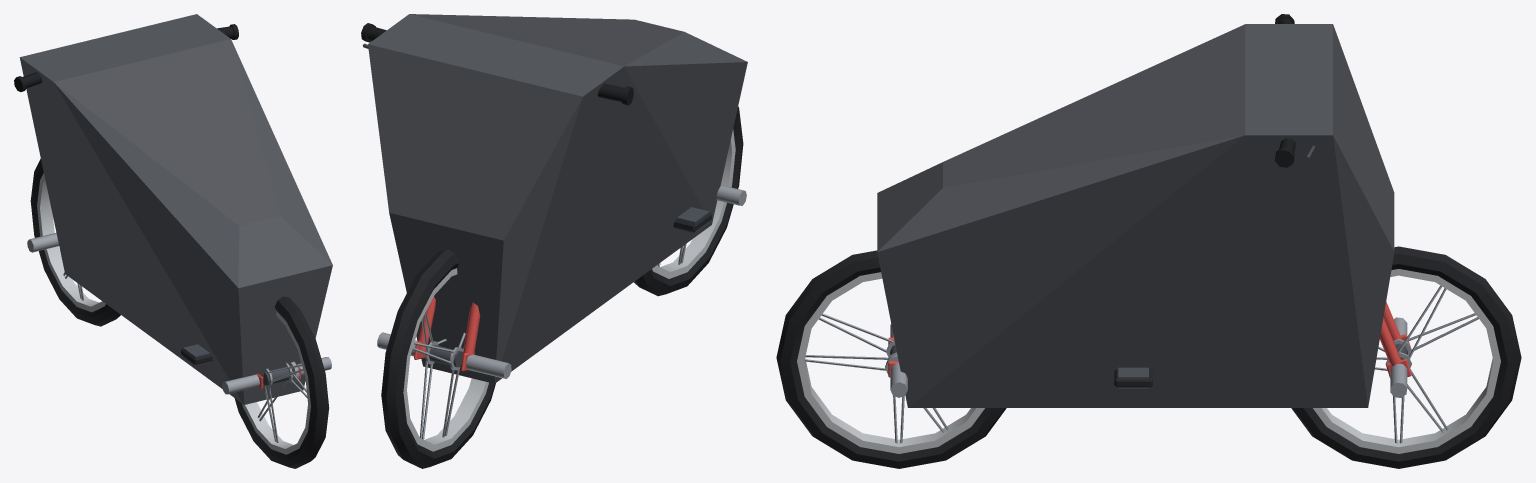
The model's file is bicycle.glb.
The picture shows the model from 3 angles, left to right: view 1: azimuth 30°, elevation 25°; view 2: azimuth 150°, elevation 25°; view 3: azimuth 270°, elevation 25°; orthographic projection. The views are drawn at different scales.
Parts seen in each view (by area): view 1: bicycle__col_body, bicycle__wheel_r, bicycle__wheel_f, bicycle__fork, bicycle__body, bicycle__crank; view 2: bicycle__col_body, bicycle__wheel_f, bicycle__wheel_r, bicycle__fork, bicycle__crank, bicycle__body; view 3: bicycle__col_body, bicycle__wheel_f, bicycle__wheel_r, bicycle__fork, bicycle__crank.
Part boxes in pixels (x1=…): bicycle__col_body: x1=19, y1=14, x2=332, y2=404; bicycle__wheel_r: x1=234, y1=296, x2=329, y2=468; bicycle__wheel_f: x1=30, y1=158, x2=120, y2=326; bicycle__fork: x1=14, y1=24, x2=238, y2=252; bicycle__body: x1=222, y1=357, x2=331, y2=394; bicycle__crank: x1=181, y1=344, x2=212, y2=365; bicycle__col_body: x1=368, y1=14, x2=747, y2=383; bicycle__wheel_f: x1=381, y1=249, x2=495, y2=468; bicycle__wheel_r: x1=634, y1=106, x2=743, y2=296; bicycle__fork: x1=361, y1=23, x2=633, y2=378; bicycle__crank: x1=673, y1=207, x2=711, y2=232; bicycle__body: x1=716, y1=185, x2=746, y2=205; bicycle__col_body: x1=877, y1=24, x2=1394, y2=407; bicycle__wheel_f: x1=1291, y1=246, x2=1521, y2=468; bicycle__wheel_r: x1=776, y1=250, x2=1006, y2=468; bicycle__fork: x1=1274, y1=14, x2=1411, y2=397; bicycle__crank: x1=1114, y1=367, x2=1152, y2=388.
Size of what is drawn, in the model's own units: 0.7416 by 0.98 by 1.7.
Materials: 3 (1 with a texture image).
